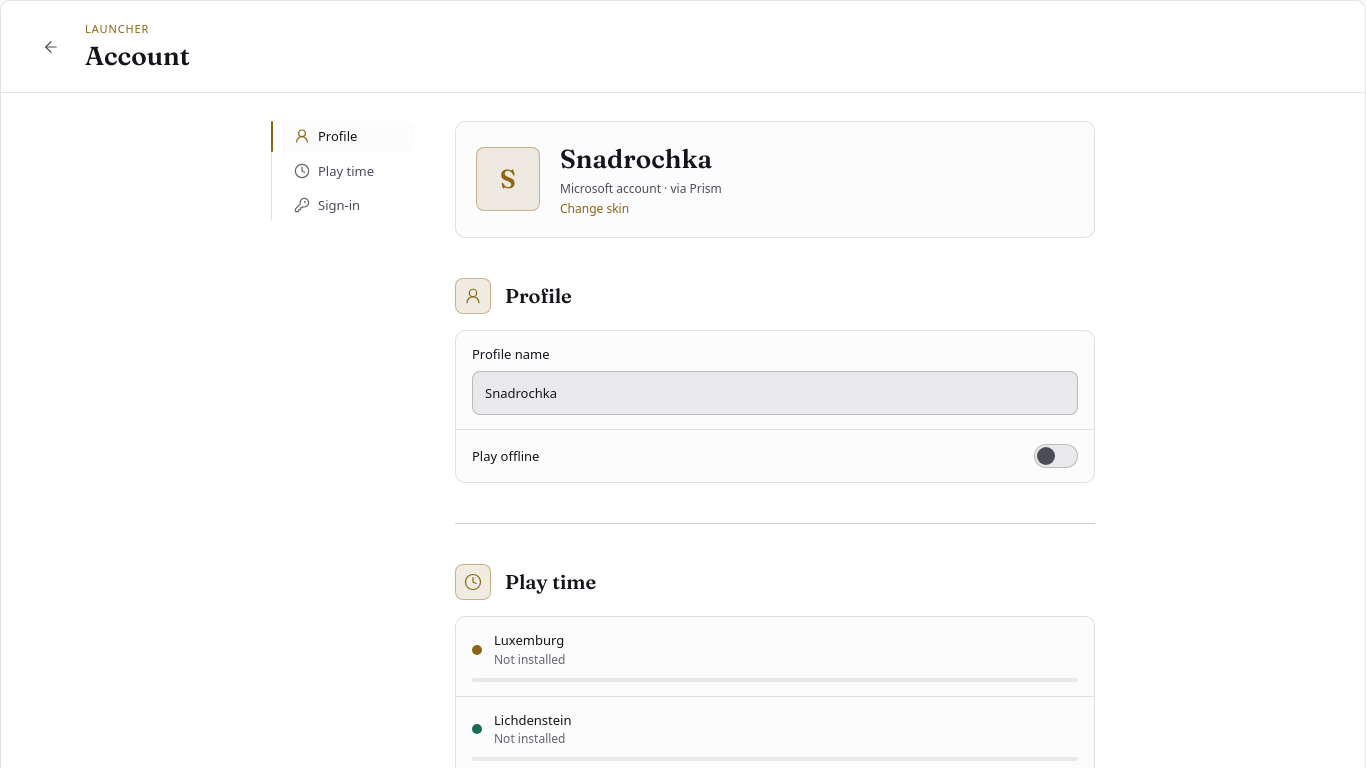
Test: AccountPanel › shows the profile name and saves a new one on Enter
The image size is (1366, 768).
Expected: the text "Snadrochka" is shown, [560,142,722,177]
Expected: the text "S" is shown, [476,147,540,211]
Replace the text in the field labelled "Profile name" with " Notch ": (775, 393) [472,371,1078,415]
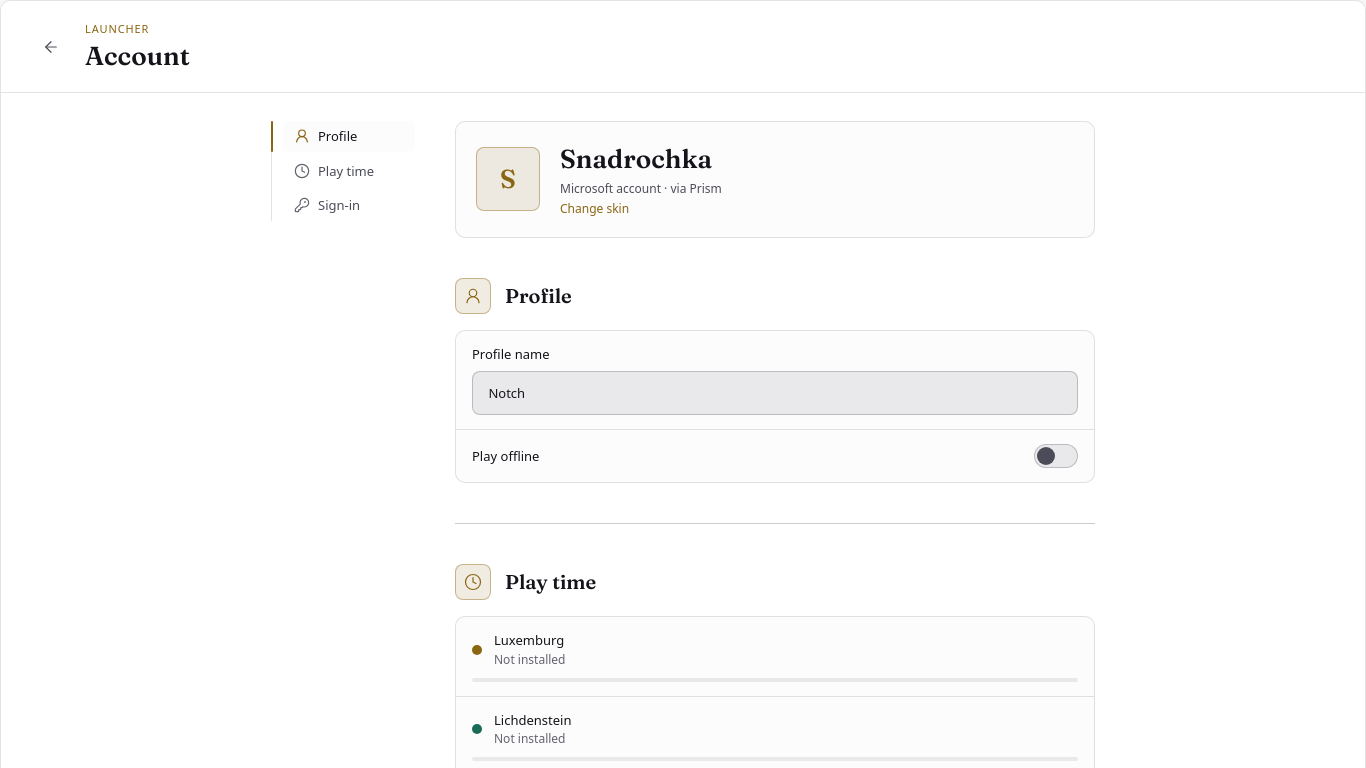
Press Enter in the field labelled "Profile name", box [472,371,1078,415]
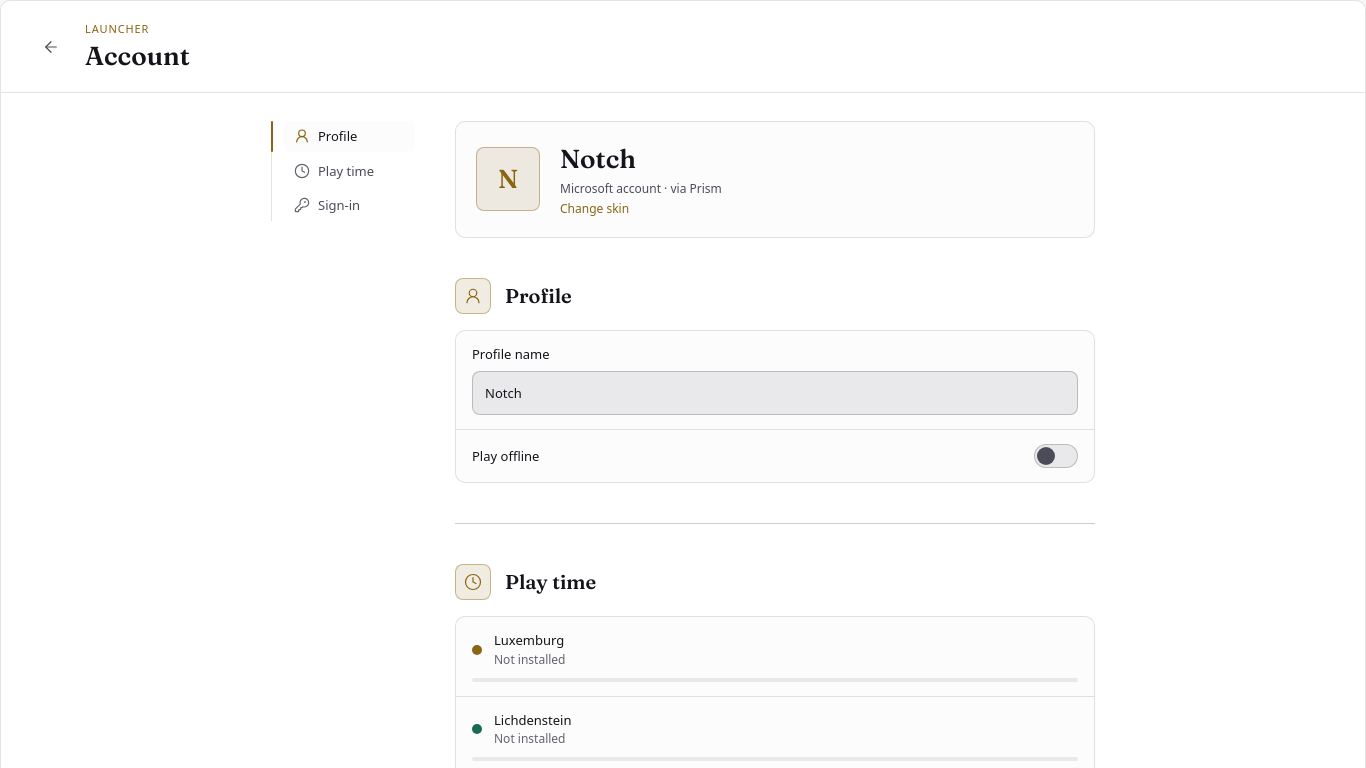
Result: the text "Notch" is shown at [560,143,636,175]
